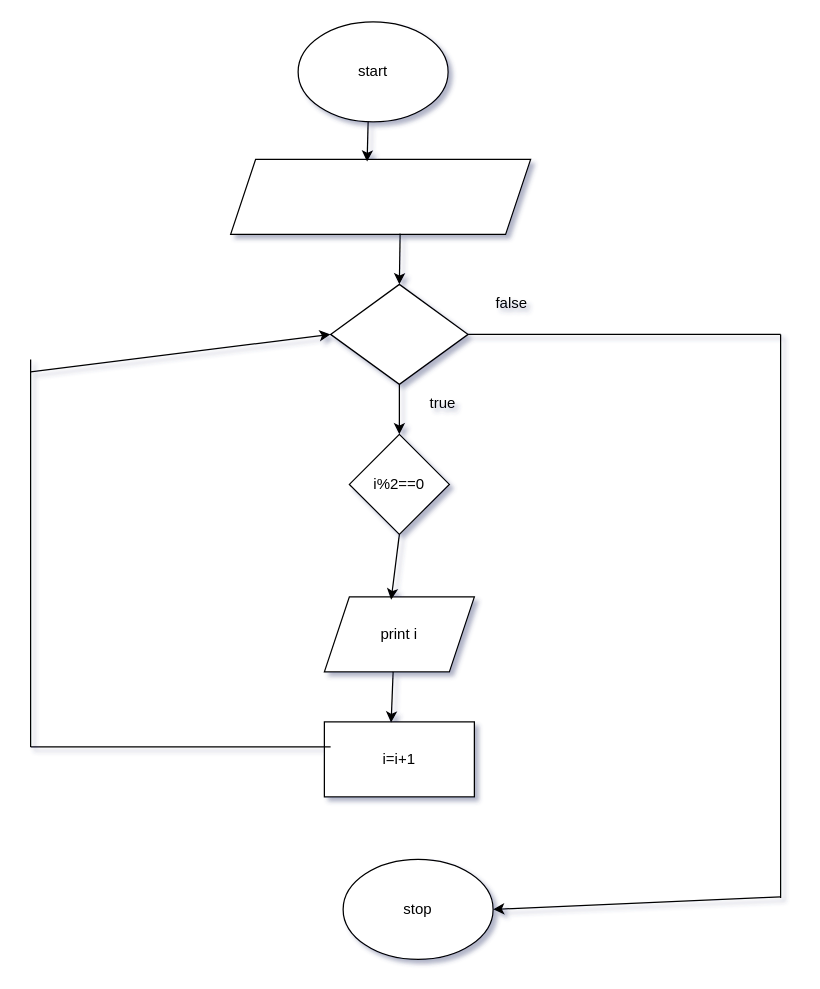
Some shapes in this 820 by 989 pixel diagram are drawn without their labels. The centre of each missing label's shape, as x and y in pixels:
"i<=50" belongs at (x=398, y=333).
"intilize the i value(i=1)" belongs at (x=380, y=196).
